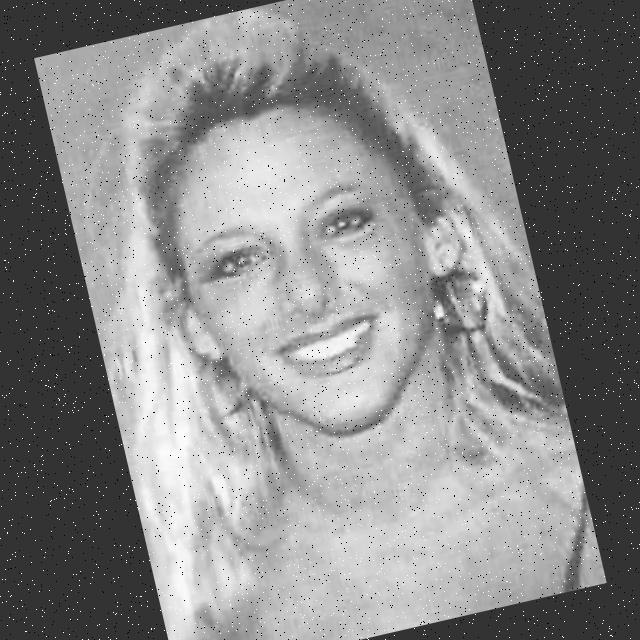face: (124, 54, 526, 497)
